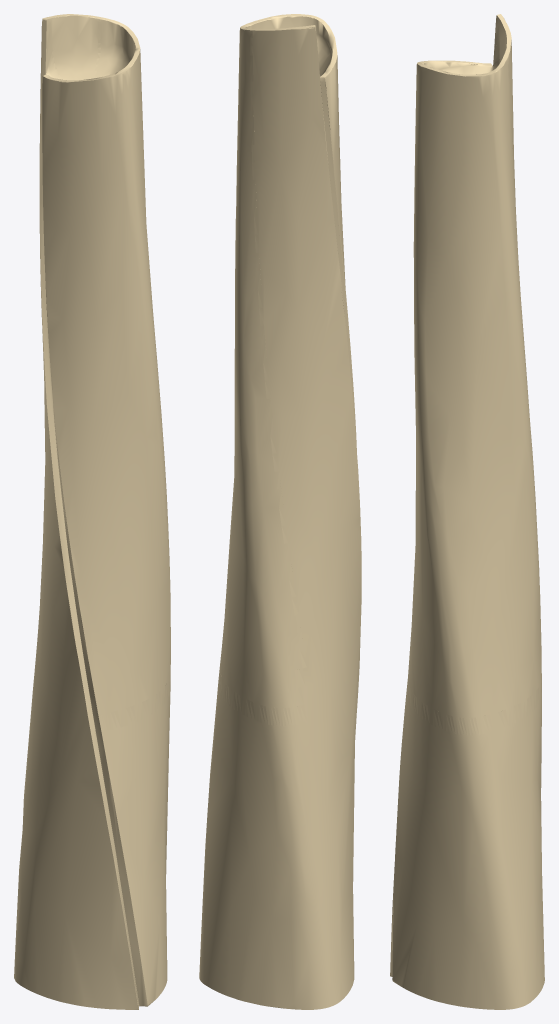
The model's file is 01-shanghaizhongxindasha.FBX.
3 renders of one model, left to right at view 1: azimuth 30°, elevation 25°; view 2: azimuth 150°, elevation 25°; view 3: azimuth 270°, elevation 25°, orthographic. The views are drawn at different scales.
Parts seen in each view (by area): view 1: 01-shanghaizhongxindasha; view 2: 01-shanghaizhongxindasha; view 3: 01-shanghaizhongxindasha.
Boxes of the visible parts, left/top/right/bottom form: 01-shanghaizhongxindasha: left=14, top=14, right=170, bottom=1009; 01-shanghaizhongxindasha: left=199, top=14, right=361, bottom=1009; 01-shanghaizhongxindasha: left=390, top=14, right=544, bottom=1009.
Bounding box in the file's own units: 9651 × 65637 × 9765.
